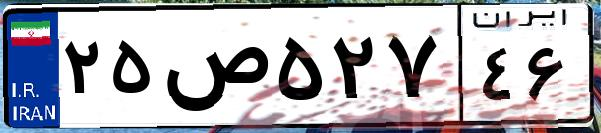2: (330, 28, 385, 110), (57, 26, 110, 100)
4: (475, 38, 525, 113)
5: (270, 28, 330, 110), (110, 28, 158, 98)
6: (525, 38, 570, 115)
7: (385, 28, 445, 110)
ص: (158, 20, 270, 120)
